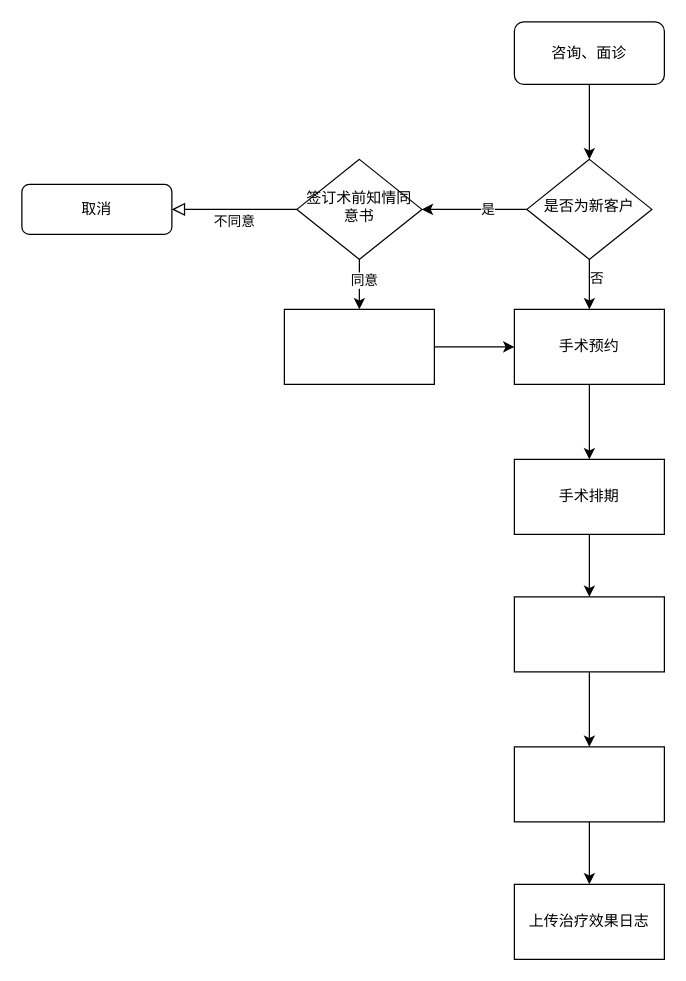
The diagram is 686 pixels wide and 981 high, and some of its shapes have lost their labels. The centre of each missing label's shape, as x and y in pixels:
"告知术后注意事项" goes at pixel 588 784.
"手术治疗" goes at pixel 588 634.
"注册入会员、缴费" goes at pixel 358 346.
